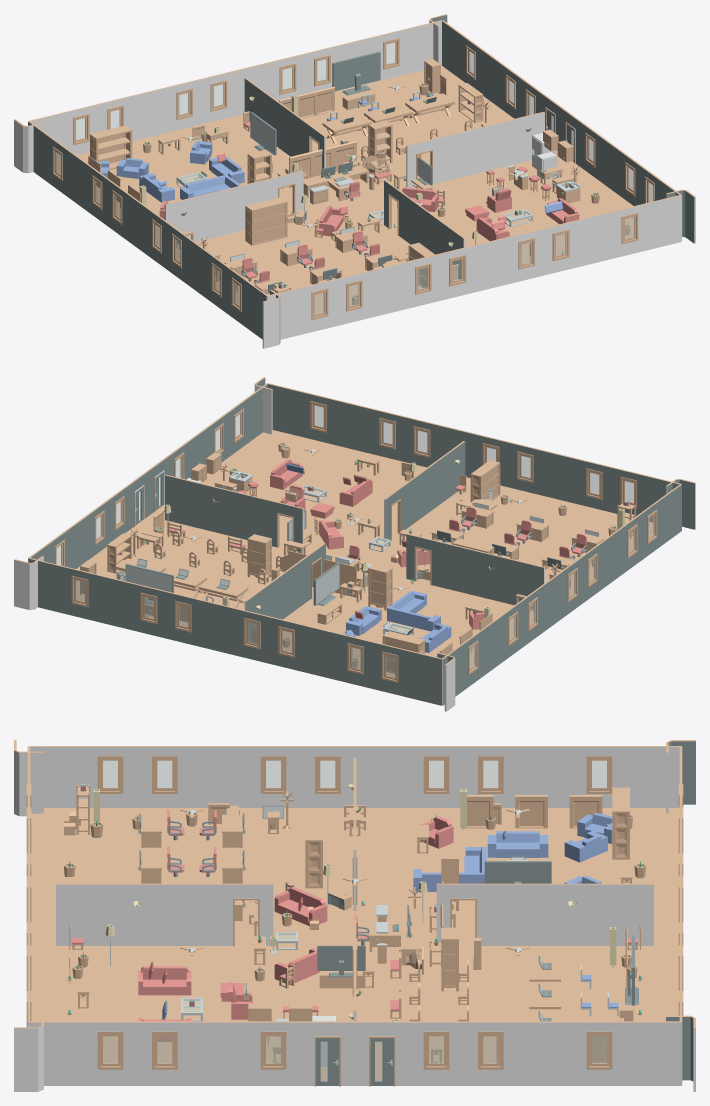
Rendered from office.glb.
3 views of the same model, one above another, from view 1: azimuth 30°, elevation 25°; view 2: azimuth 150°, elevation 25°; view 3: azimuth 270°, elevation 25° (orthographic). The views are drawn at different scales.
Visible parts, largest first — view 1: bookcaseClosedWide(Clone), wall(Clone).001, wall(Clone).004, wall(Clone).003, wall(Clone).002, wall(Clone).006, wall(Clone).022, wall(Clone).023, wall(Clone).020, televisionModern(Clone).001, wallWindow(Clone).005, wallWindow(Clone).003 (+78 smaller); view 2: wall(Clone).005, wall(Clone).006, wall(Clone).008, wall(Clone).007, wall(Clone).001, wall(Clone).021, wall(Clone).003, wall(Clone).020, wall(Clone).023, wall(Clone).024, wall(Clone).022, wallWindow(Clone).012 (+85 smaller); view 3: wall(Clone).016, wall(Clone).017, wall(Clone).018, wall(Clone).027, wall(Clone).028, wall(Clone).029, wall(Clone).026, wall(Clone).012, wall(Clone).025, wall(Clone).011, wall(Clone).030, wall(Clone).014 (+141 smaller).
Part boxes in pixels (bbox=[...]): bookcaseClosedWide(Clone): bbox=[245, 197, 287, 245]; wall(Clone).001: bbox=[371, 262, 405, 317]; wall(Clone).004: bbox=[646, 195, 681, 250]; wall(Clone).003: bbox=[577, 211, 612, 266]; wall(Clone).002: bbox=[474, 237, 509, 292]; wall(Clone).006: bbox=[132, 87, 167, 140]; wall(Clone).022: bbox=[441, 128, 475, 181]; wall(Clone).023: bbox=[475, 120, 510, 173]; wall(Clone).020: bbox=[200, 187, 234, 240]; televisionModern(Clone).001: bbox=[332, 51, 380, 95]; wallWindow(Clone).005: bbox=[543, 220, 578, 275]; wallWindow(Clone).003: bbox=[440, 245, 474, 300]; wall(Clone).005: bbox=[407, 650, 442, 705]; wall(Clone).006: bbox=[304, 625, 338, 680]; wall(Clone).008: bbox=[97, 574, 132, 629]; wall(Clone).007: bbox=[200, 600, 235, 655]; wall(Clone).001: bbox=[542, 450, 577, 503]; wall(Clone).021: bbox=[440, 542, 475, 595]; wall(Clone).003: bbox=[336, 400, 370, 453]; wall(Clone).020: bbox=[475, 550, 509, 603]; wall(Clone).023: bbox=[199, 483, 234, 536]; wall(Clone).024: bbox=[165, 474, 199, 528]; wall(Clone).022: bbox=[234, 491, 268, 539]; wallWindow(Clone).012: bbox=[131, 583, 166, 638]; wall(Clone).016: bbox=[192, 1021, 246, 1085]; wall(Clone).017: bbox=[518, 1021, 572, 1085]; wall(Clone).018: bbox=[626, 1021, 680, 1085]; wall(Clone).027: bbox=[164, 883, 218, 945]; wall(Clone).028: bbox=[491, 883, 545, 945]; wall(Clone).029: bbox=[545, 883, 599, 945]; wall(Clone).026: bbox=[110, 883, 164, 945]; wall(Clone).012: bbox=[355, 746, 409, 807]; wall(Clone).025: bbox=[56, 883, 110, 945]; wall(Clone).011: bbox=[192, 746, 246, 807]; wall(Clone).030: bbox=[599, 883, 653, 945]; wall(Clone).014: bbox=[626, 746, 680, 807].
Bounding box in the file's own units: 25.1 × 2.76 × 25.1.
